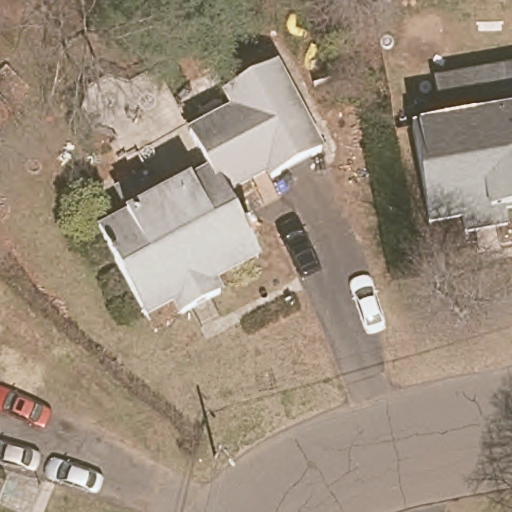DT: (214, 443, 235, 468)
